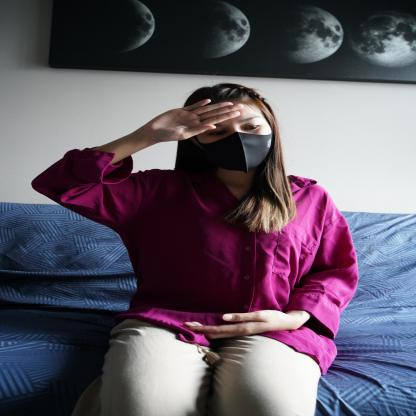Sick: (137, 97, 251, 143)
